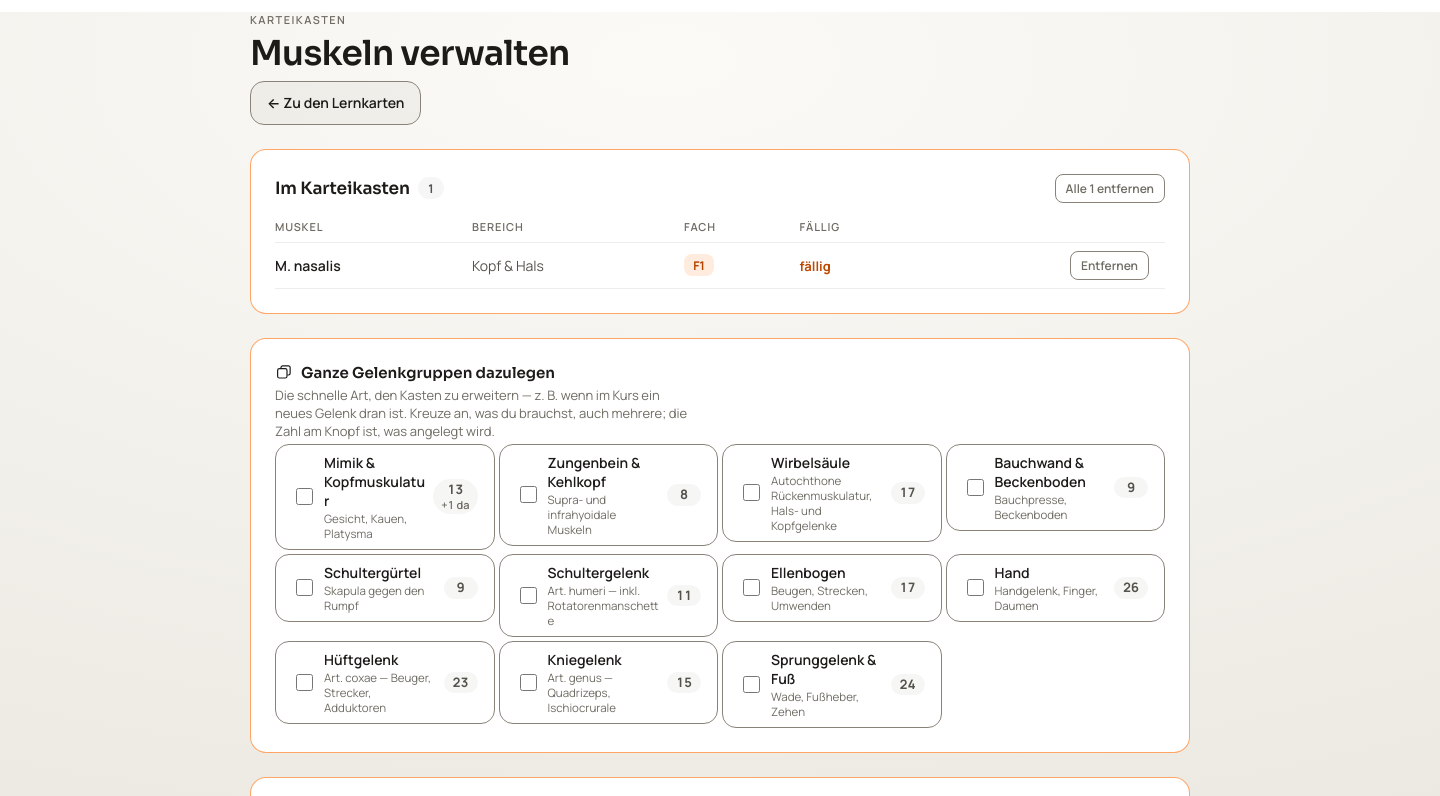
Test case: zwei Funktionszeilen ergeben EINE Zeile › entfernt die Karte, ohne eine zweite Zeile stehen zu lassen
Click the button "Entfernen": [1109, 265] box [1070,251,1149,280]
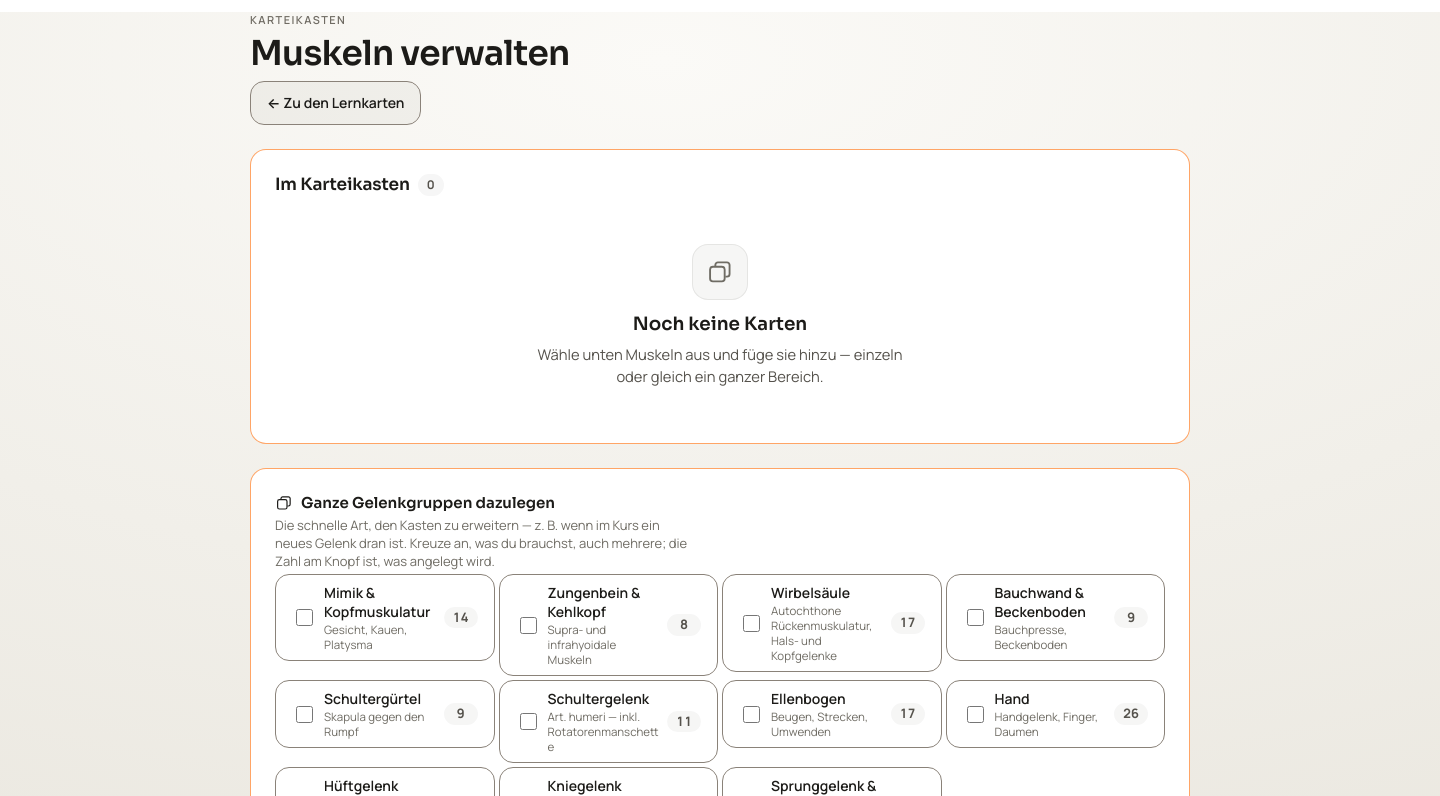
Result: the heading "Noch keine Karten" is shown at [633,312,807,335]
